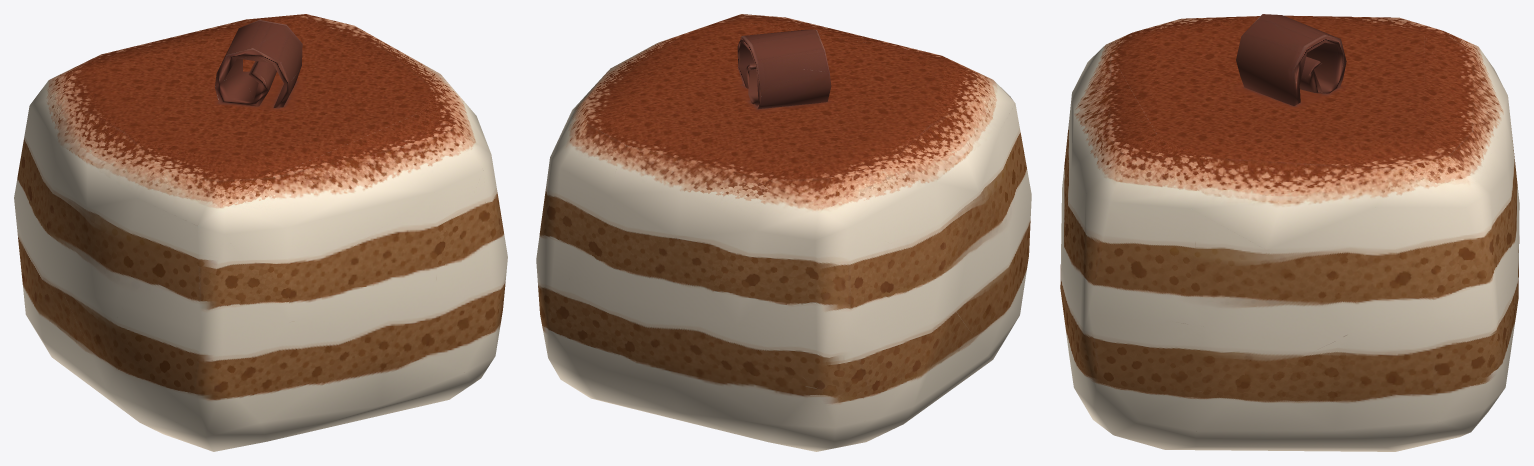
The model's file is source.fbx.
3 views of the same model, side by side, from view 1: azimuth 30°, elevation 25°; view 2: azimuth 150°, elevation 25°; view 3: azimuth 270°, elevation 25° (orthographic). The views are drawn at different scales.
Parts seen in each view (by area): view 1: Mesh_0; view 2: Mesh_0; view 3: Mesh_0.
Boxes of the visible parts, x1,y1,x2,y2 form: Mesh_0: (14, 14, 507, 451); Mesh_0: (536, 14, 1031, 451); Mesh_0: (1060, 14, 1519, 451).
Size of the model in its own units: 20.89 by 18 by 20.87.
1 material, 1 textured.
